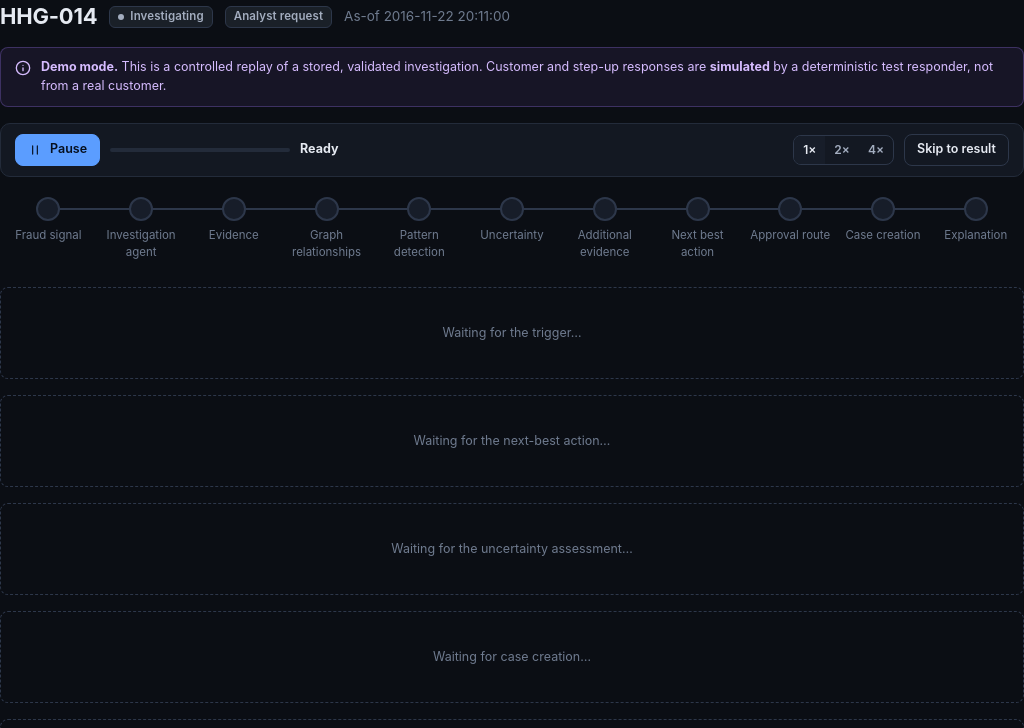
Test case: investigation workspace › can skip to the result and replay again
The width and height of the screenshot is (1024, 728).
Click the button "Skip to result": coordinates (956, 150) [904,134,1009,166]
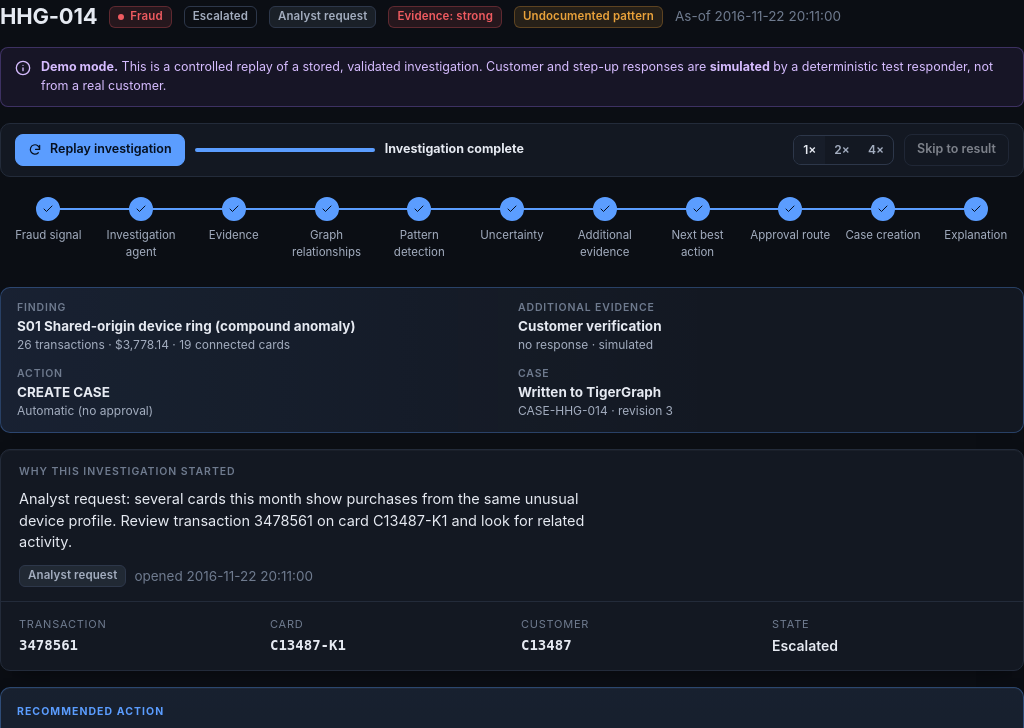
Click the button "Replay investigation": coordinates (100, 150) [15,134,185,166]
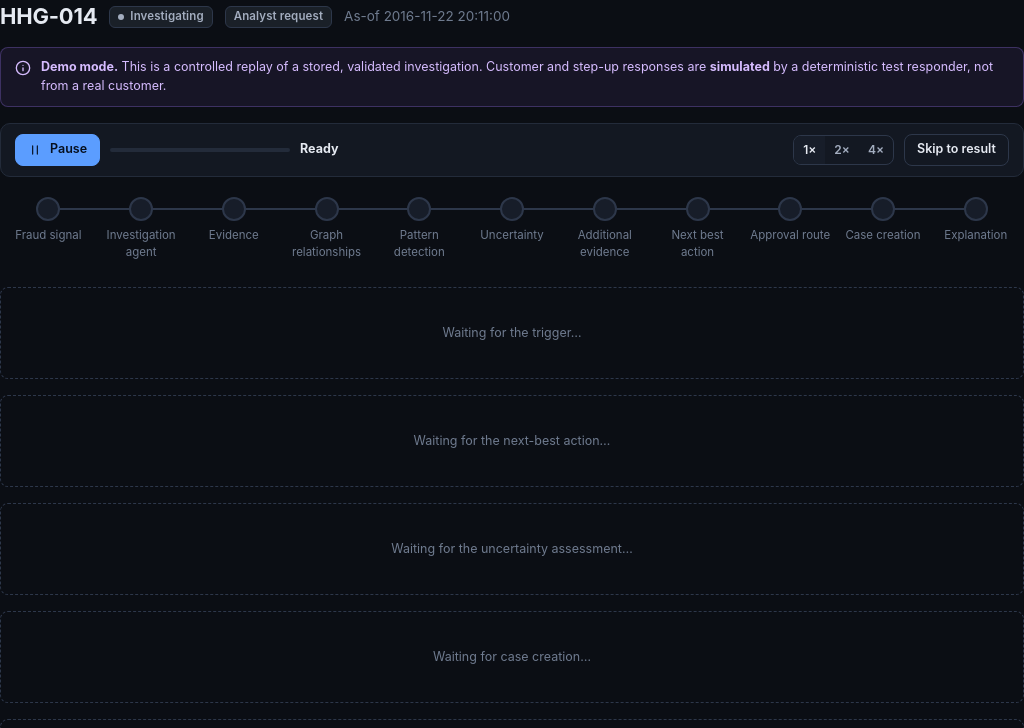
Now the text "Waiting for the next-best action…" is shown, box [414,432,610,450]
